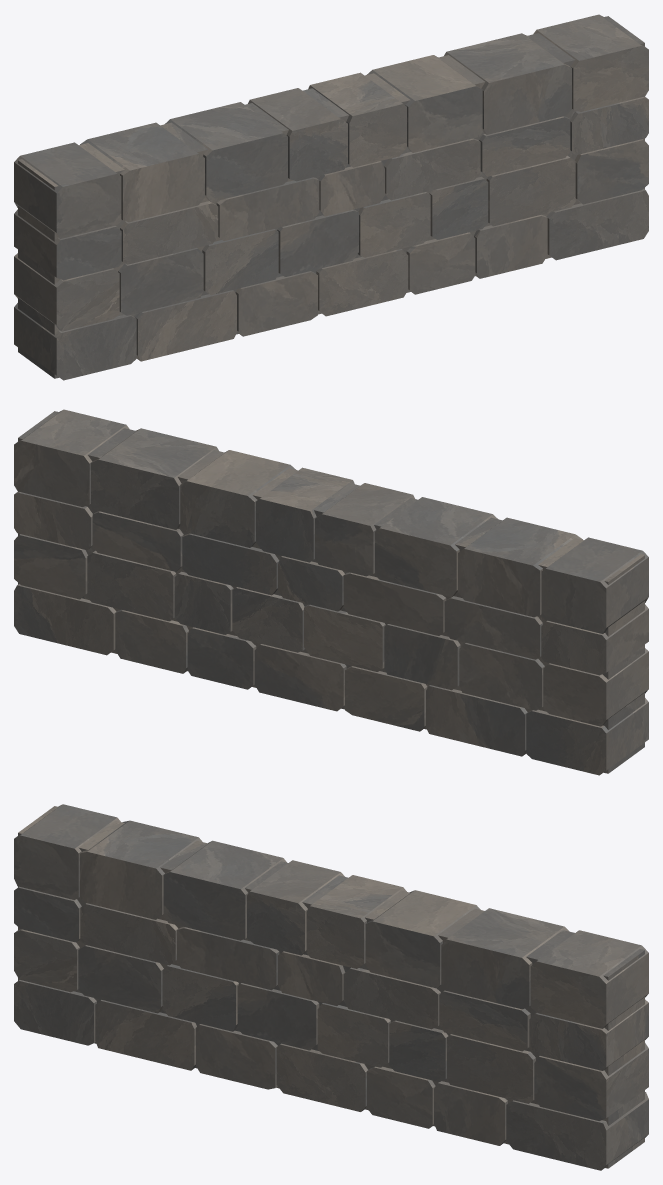
Rendered from S07_LowRubbleWall_4x1.25x0.50_UV2.fbx.
3 views of the same model, one above another, from view 1: azimuth 30°, elevation 25°; view 2: azimuth 150°, elevation 25°; view 3: azimuth 330°, elevation 25° (orthographic).
Parts seen in each view (by area): view 1: S07_Export_UV2; view 2: S07_Export_UV2; view 3: S07_Export_UV2.
Part boxes in pixels (x1,y1,x2,y2): S07_Export_UV2: [14, 14, 648, 380]; S07_Export_UV2: [14, 409, 648, 775]; S07_Export_UV2: [14, 804, 648, 1170].
Size of the model in its own units: 4 by 1.25 by 0.5.
